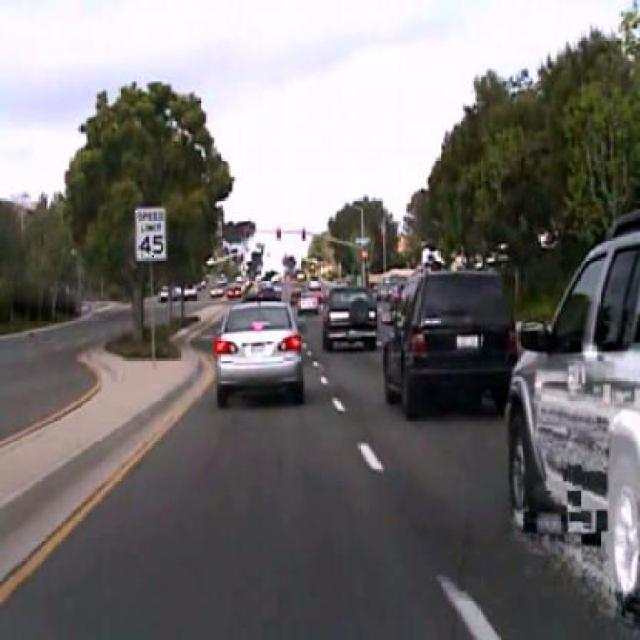speedLimit45: (136, 206, 166, 259)
